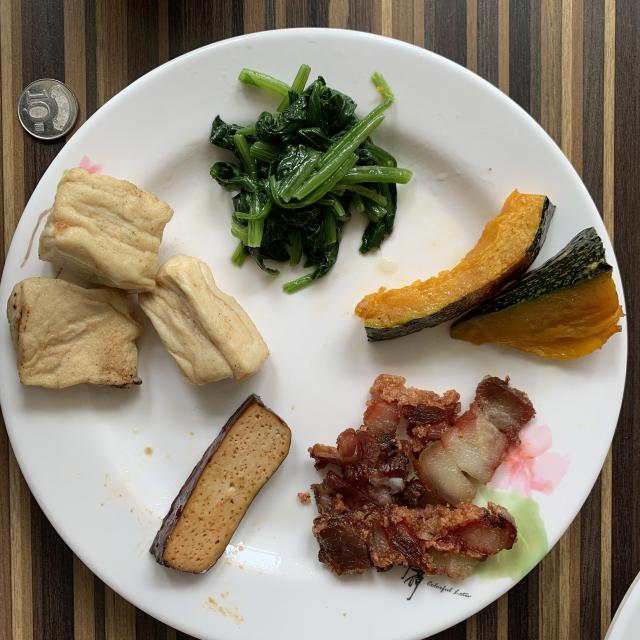coin: (18, 79, 78, 140)
creamy tofu -without sauce-: (8, 168, 269, 388)
firm tofu: (150, 394, 291, 574)
mustard greens: (210, 65, 411, 292)
pumpkin: (355, 191, 624, 359)
red grilled pork: (309, 375, 535, 579)
